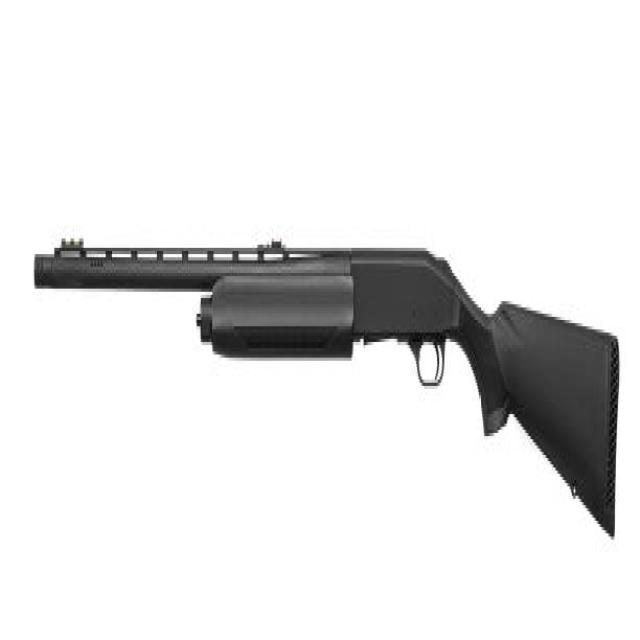rifle: (29, 221, 625, 559)
